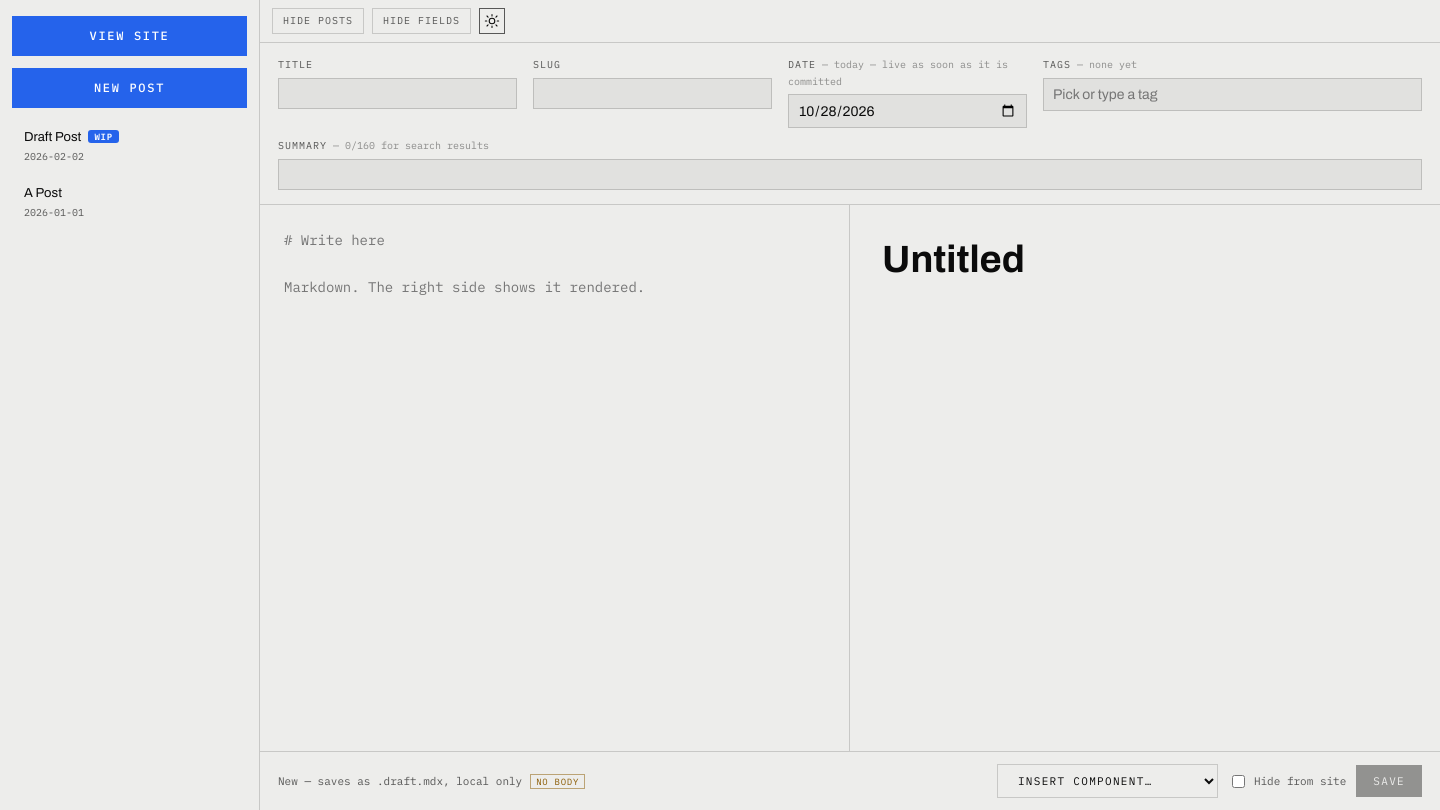
Test: a new post › saves once there is a title and a body
In the field labelled "Title": x=398, y=93 x1=278 y1=78 x2=517 y2=108, type "Real Post"
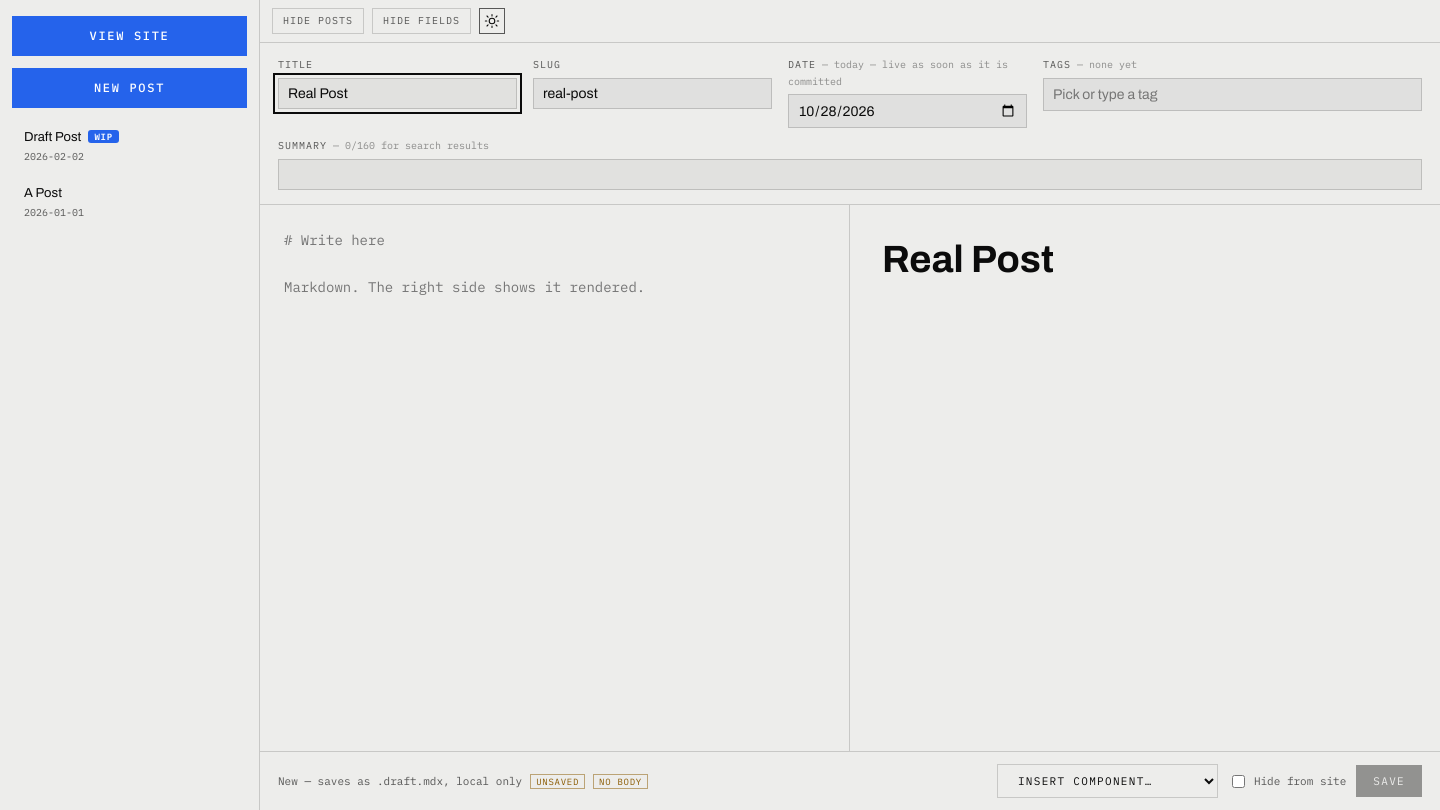
In the text box with test id "body": x=555, y=478 x1=260 y1=204 x2=850 y2=751, type "x"
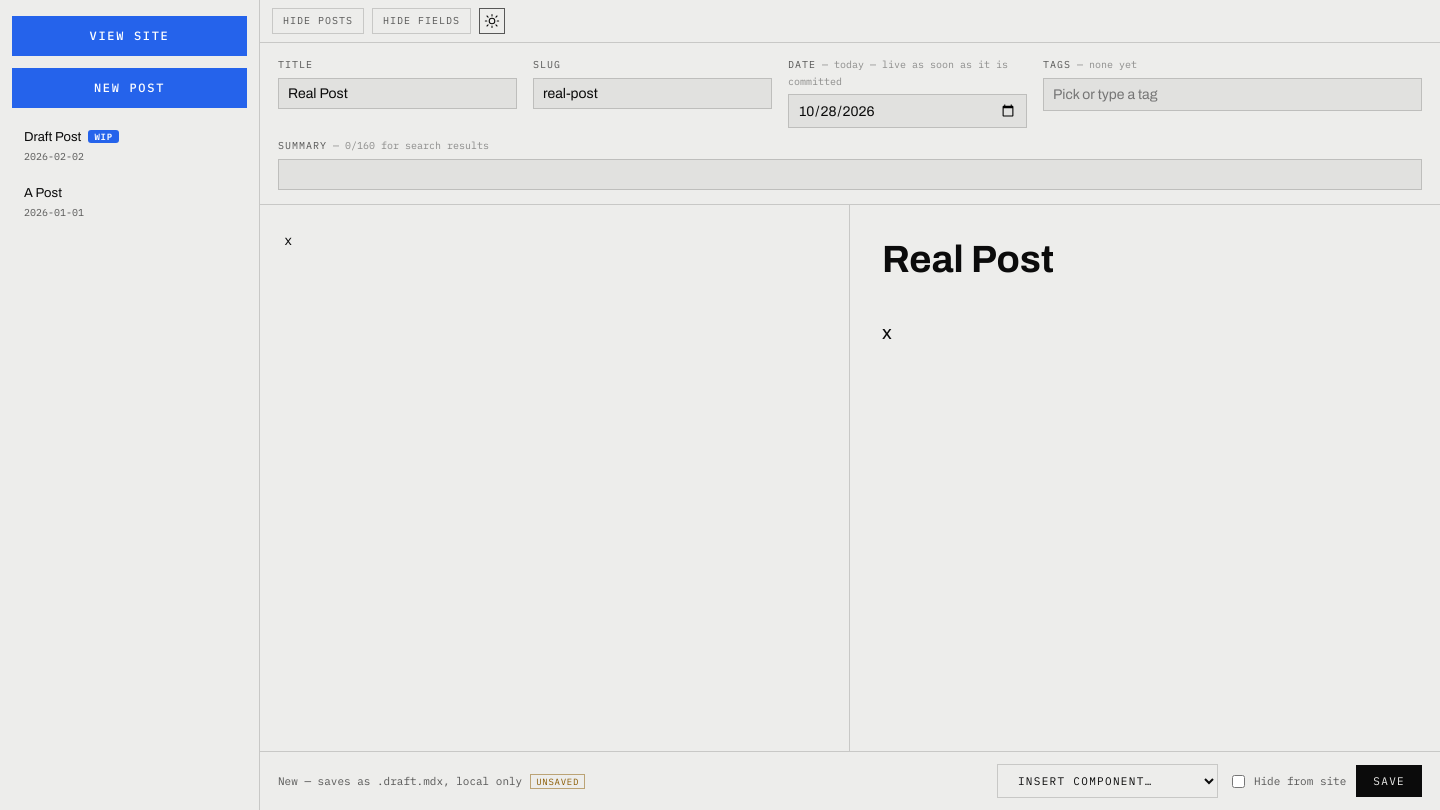
Result: the button "Save" is enabled at x1=1356 y1=765 x2=1422 y2=797
